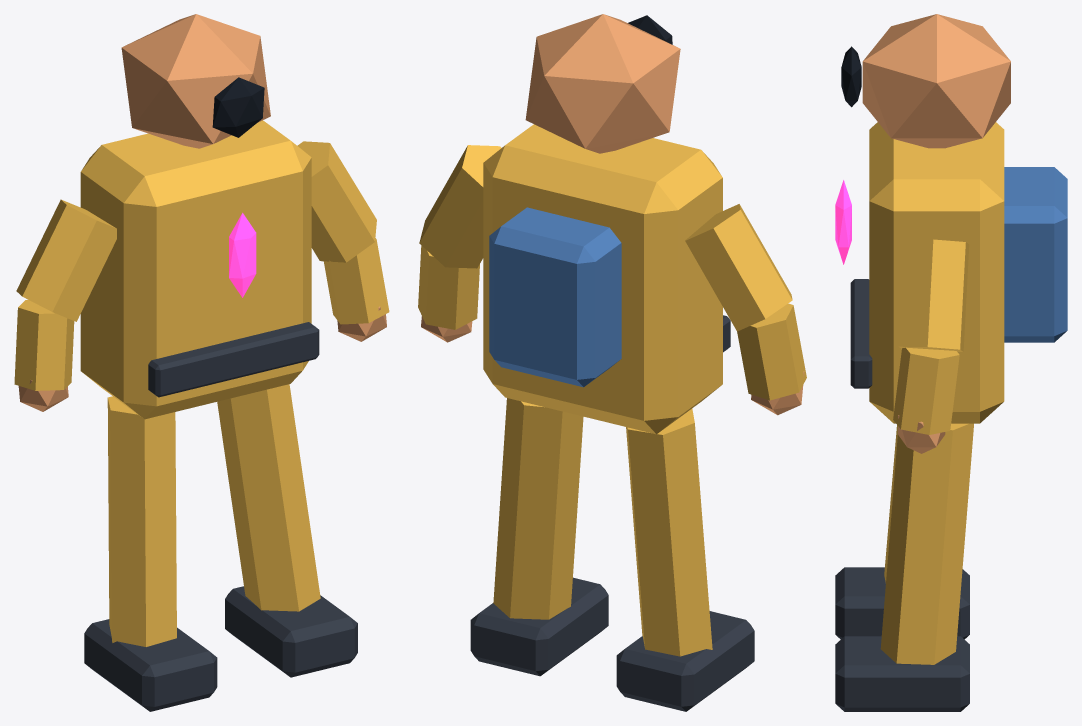
The model's file is npcs_019_seed11.glb.
3 renders of one model, left to right at view 1: azimuth 30°, elevation 25°; view 2: azimuth 150°, elevation 25°; view 3: azimuth 270°, elevation 25°, orthographic. The views are drawn at different scales.
Visible parts, largest first — view 1: npcs_019_seed11; view 2: npcs_019_seed11; view 3: npcs_019_seed11.
Boxes of the visible parts, box(x1,y1,x2,y2) form: npcs_019_seed11: box(14, 14, 389, 711); npcs_019_seed11: box(418, 14, 806, 711); npcs_019_seed11: box(835, 14, 1067, 711).
Bounding box in the file's own units: 1.12 × 1.87 × 0.6119.
